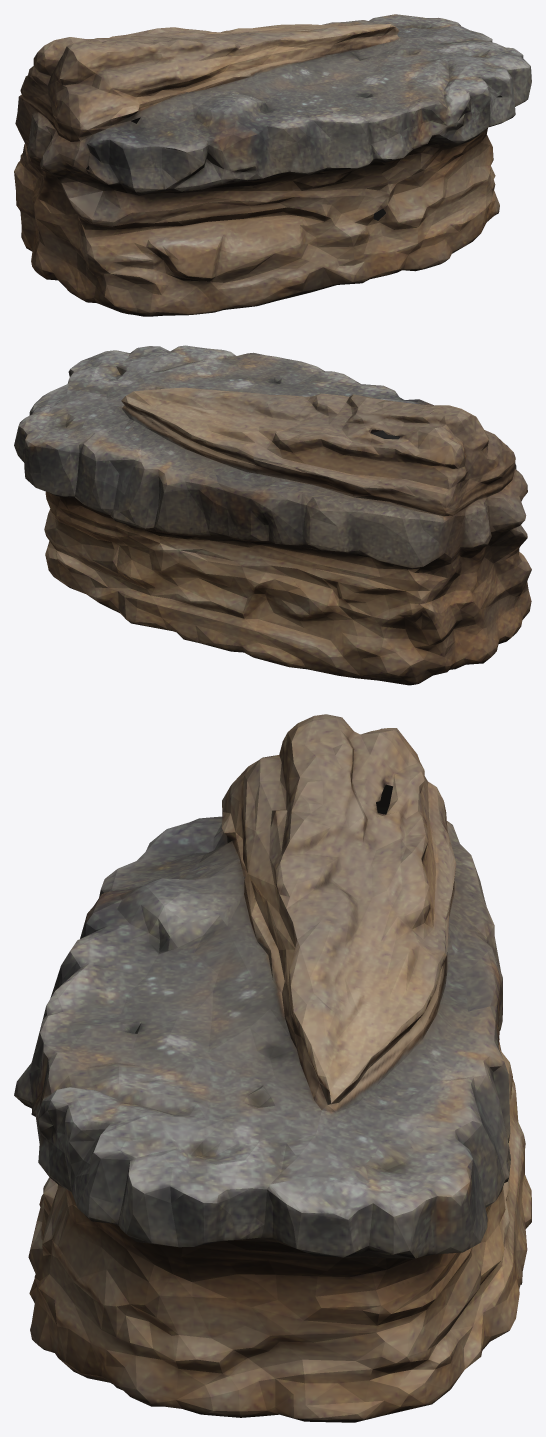
3 views of the same model, one above another, from view 1: azimuth 30°, elevation 25°; view 2: azimuth 150°, elevation 25°; view 3: azimuth 270°, elevation 25° (orthographic). The views are drawn at different scales.
Parts seen in each view (by area): view 1: world; view 2: world; view 3: world.
Part boxes in pixels (x1,y1,x2,y2): world: (14,14,531,316); world: (14,345,531,685); world: (14,714,531,1422).
Size of the model in its own units: 0.9901 by 0.4867 by 0.5615.
Materials: 7 (3 with a texture image).
